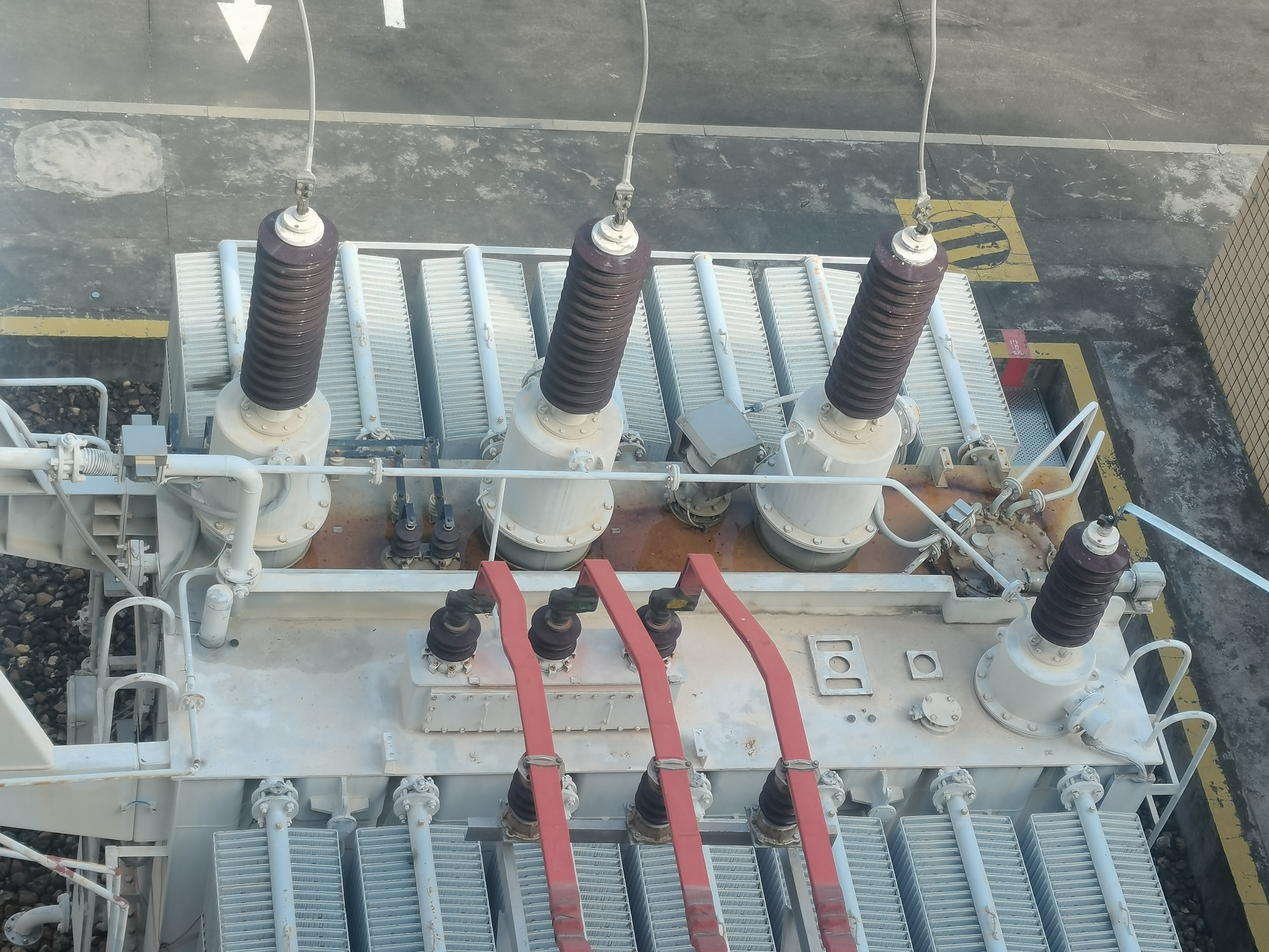sly_bjbmyw: (162, 404, 1097, 785)
